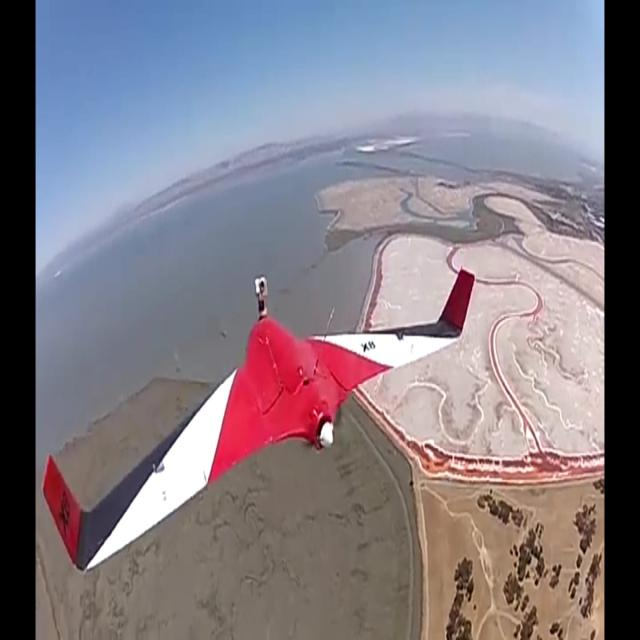iha: (42, 260, 476, 576)
